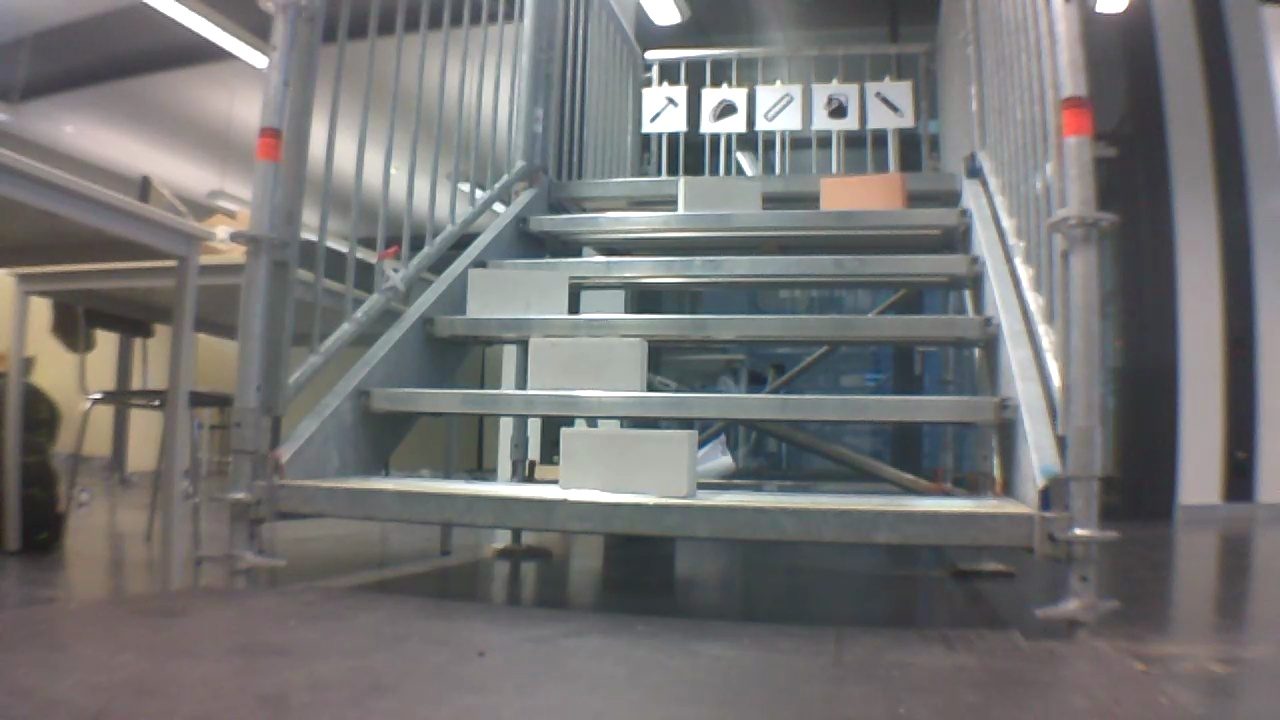brick: (559, 427, 695, 497), (527, 338, 647, 394), (466, 270, 566, 313), (676, 177, 758, 209), (822, 176, 904, 208)
bucket: (820, 91, 850, 123)
edge: (275, 482, 1035, 543), (361, 389, 1017, 420), (423, 315, 995, 338), (478, 256, 988, 274), (514, 209, 968, 228), (556, 171, 958, 190)
hammer: (640, 89, 683, 128)
pencil: (869, 87, 907, 119)
ruler: (761, 89, 794, 125)
stairs: (229, 2, 1104, 637)
steps: (268, 167, 1044, 552)
taco: (706, 95, 741, 125)
